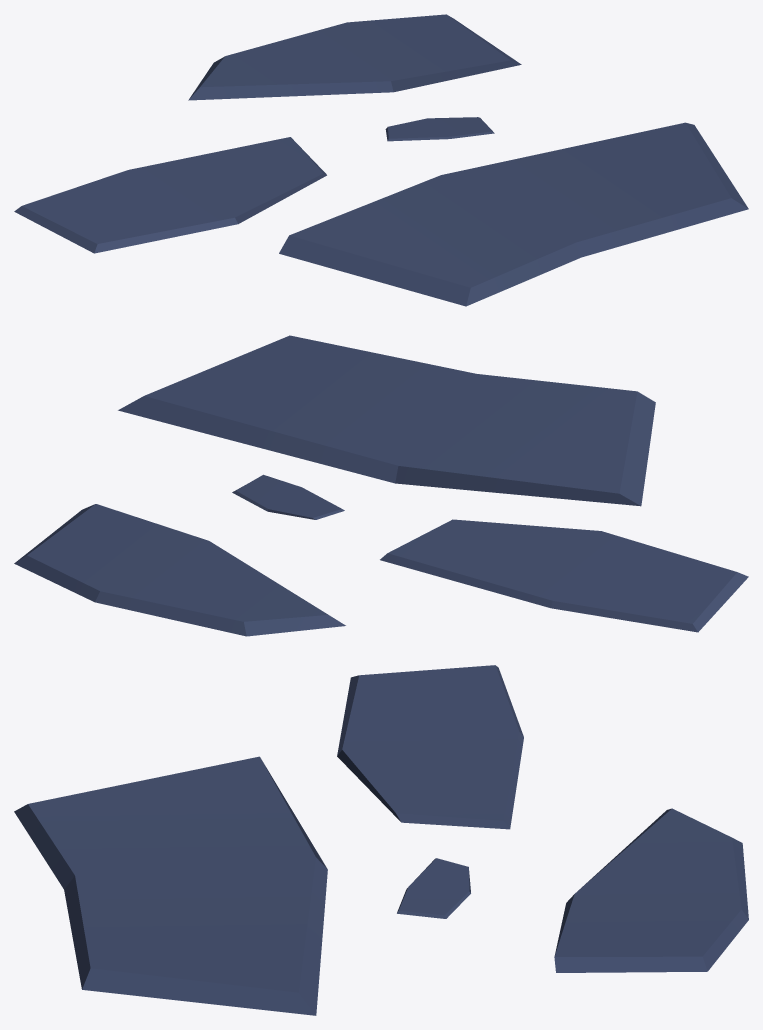
Rendered from FRock_Small2.fbx.
The picture shows the model from 3 angles, top to bottom: view 1: azimuth 30°, elevation 25°; view 2: azimuth 150°, elevation 25°; view 3: azimuth 270°, elevation 25°; orthographic projection. The views are drawn at different scales.
Parts seen in each view (by area): view 1: rocks_small_2.001; view 2: rocks_small_2.001; view 3: rocks_small_2.001.
Boxes of the visible parts, x1,y1,x2,y2 form: rocks_small_2.001: (14,14,748,306); rocks_small_2.001: (14,335,748,636); rocks_small_2.001: (14,665,748,1015).
Size of the model in its own units: 286 by 5.39 by 258.
Materials: 1 (1 with a texture image).
